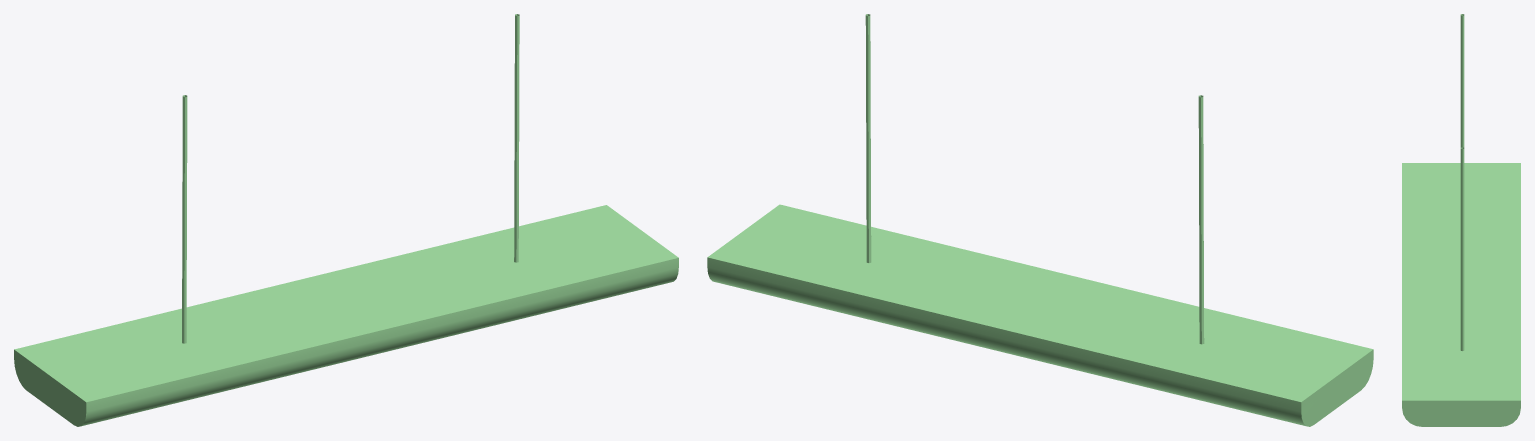
The model's file is Luz 2.fbx.
3 renders of one model, left to right at view 1: azimuth 30°, elevation 25°; view 2: azimuth 150°, elevation 25°; view 3: azimuth 270°, elevation 25°, orthographic. The views are drawn at different scales.
Visible parts, largest first — view 1: Luz_2; view 2: Luz_2; view 3: Luz_2.
Boxes of the visible parts, <box> form: Luz_2: <box>14,14,678,426</box>; Luz_2: <box>707,14,1373,426</box>; Luz_2: <box>1402,14,1520,426</box>.
Bounding box in the file's own units: 1.26 × 0.5653 × 0.266.
